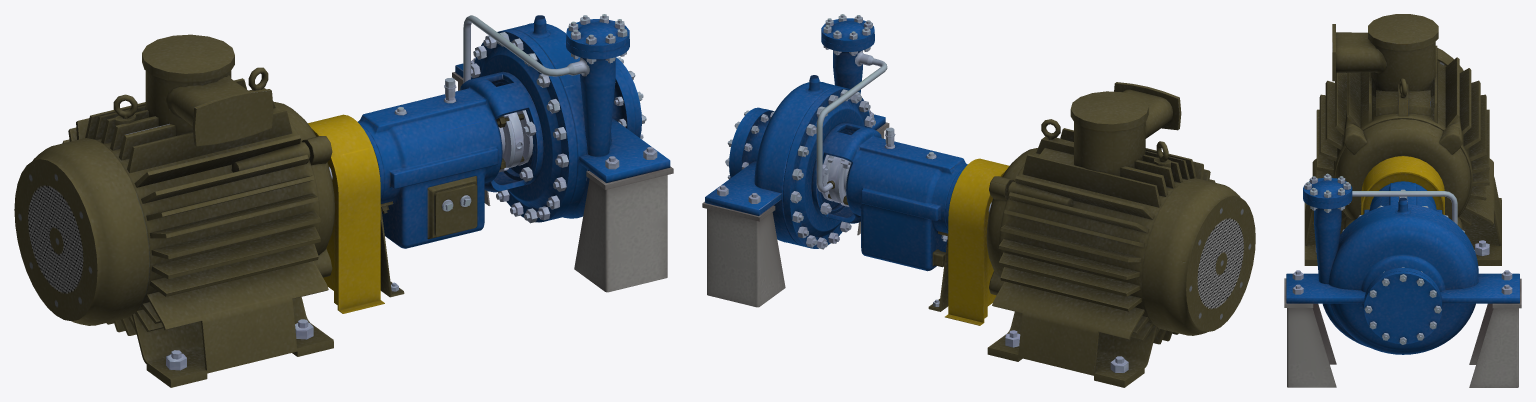
Rendered from CPump_Pump_2.fbx.
3 renders of one model, left to right at view 1: azimuth 30°, elevation 25°; view 2: azimuth 150°, elevation 25°; view 3: azimuth 270°, elevation 25°, orthographic. The views are drawn at different scales.
Visible parts, largest first — view 1: Socle_1_Socle_mat_0; view 2: Socle_1_Socle_mat_0; view 3: Socle_1_Socle_mat_0.
Boxes of the visible parts, x1,y1,x2,y2 form: Socle_1_Socle_mat_0: (14, 14, 673, 387); Socle_1_Socle_mat_0: (702, 14, 1255, 387); Socle_1_Socle_mat_0: (1284, 14, 1521, 387).
Bounding box in the file's own units: 234 × 107 × 110.
Materials: 1 (1 with a texture image).
